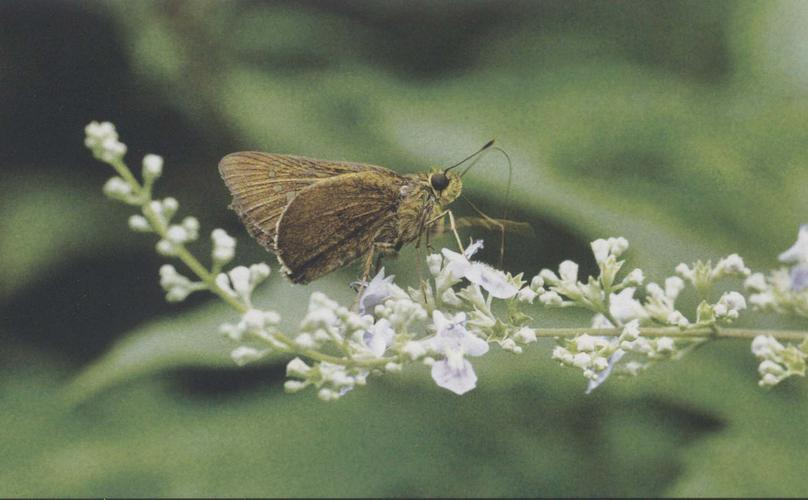Hesperiidae: (214, 134, 527, 308)
